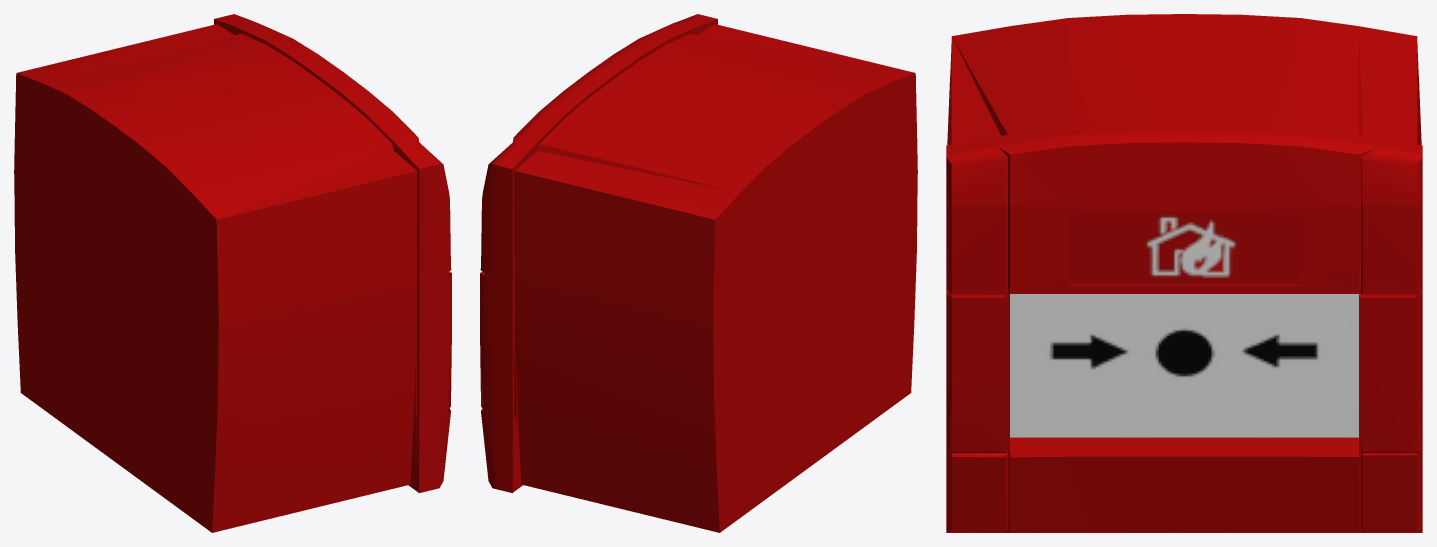
Rendered from uk_fire_alarm_button.glb.
3 views of the same model, side by side, from view 1: azimuth 30°, elevation 25°; view 2: azimuth 150°, elevation 25°; view 3: azimuth 270°, elevation 25° (orthographic). The views are drawn at different scales.
Parts seen in each view (by area): view 1: pCube1; view 2: pCube1; view 3: pCube1.
Part boxes in pixels (x1,y1,x2,y2): pCube1: (14,14,451,532); pCube1: (480,14,917,532); pCube1: (946,14,1422,532).
Bounding box in the file's own units: 0.0973 × 0.1354 × 0.1467.
1 material, 1 textured.
